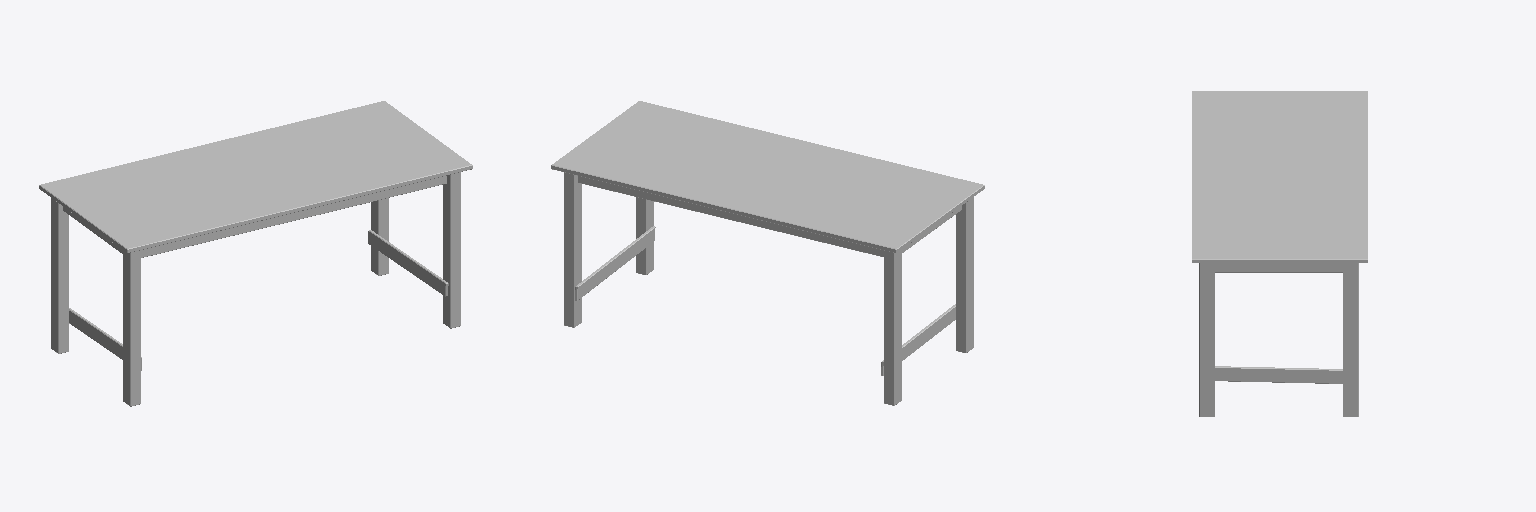
File: table2.obj
3 renders of one model, left to right at view 1: azimuth 30°, elevation 25°; view 2: azimuth 150°, elevation 25°; view 3: azimuth 270°, elevation 25°, orthographic.
Parts seen in each view (by area): view 1: table2; view 2: table2; view 3: table2.
Part boxes in pixels (x1,y1,x2,y2): table2: (39, 101, 472, 406); table2: (551, 101, 984, 405); table2: (1192, 91, 1367, 416).
Size of the model in its own units: 1.5 by 0.6709 by 0.6612.